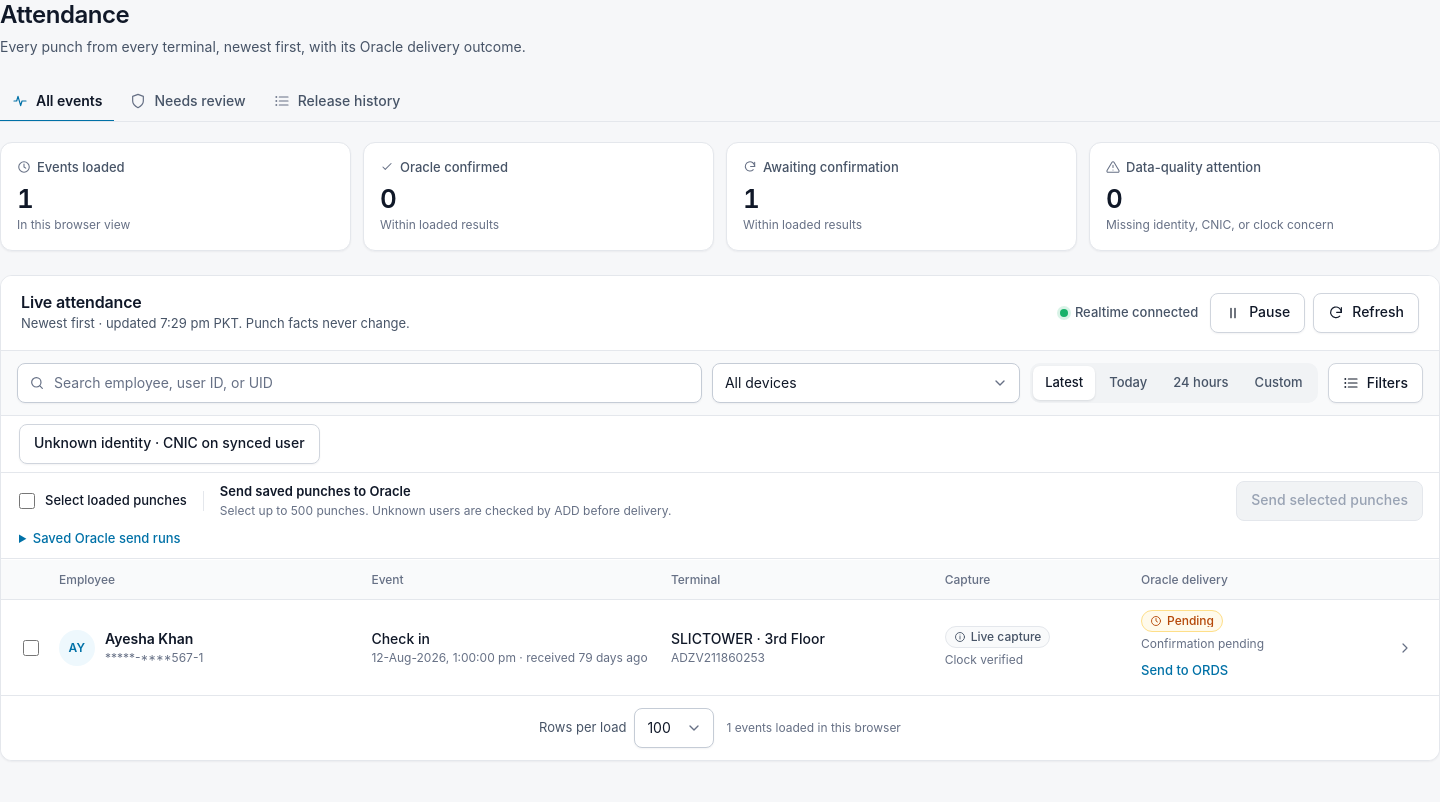
it: Live attendance workspace › lists unknown identities with a synced CNIC in one click and releases them without a reason or password
Expected: the element "Ayesha Khan" is shown, [1,600,1439,695]
Click the button "Unknown identity · CNIC on synced user" at (169, 444), box [19,424,320,464]
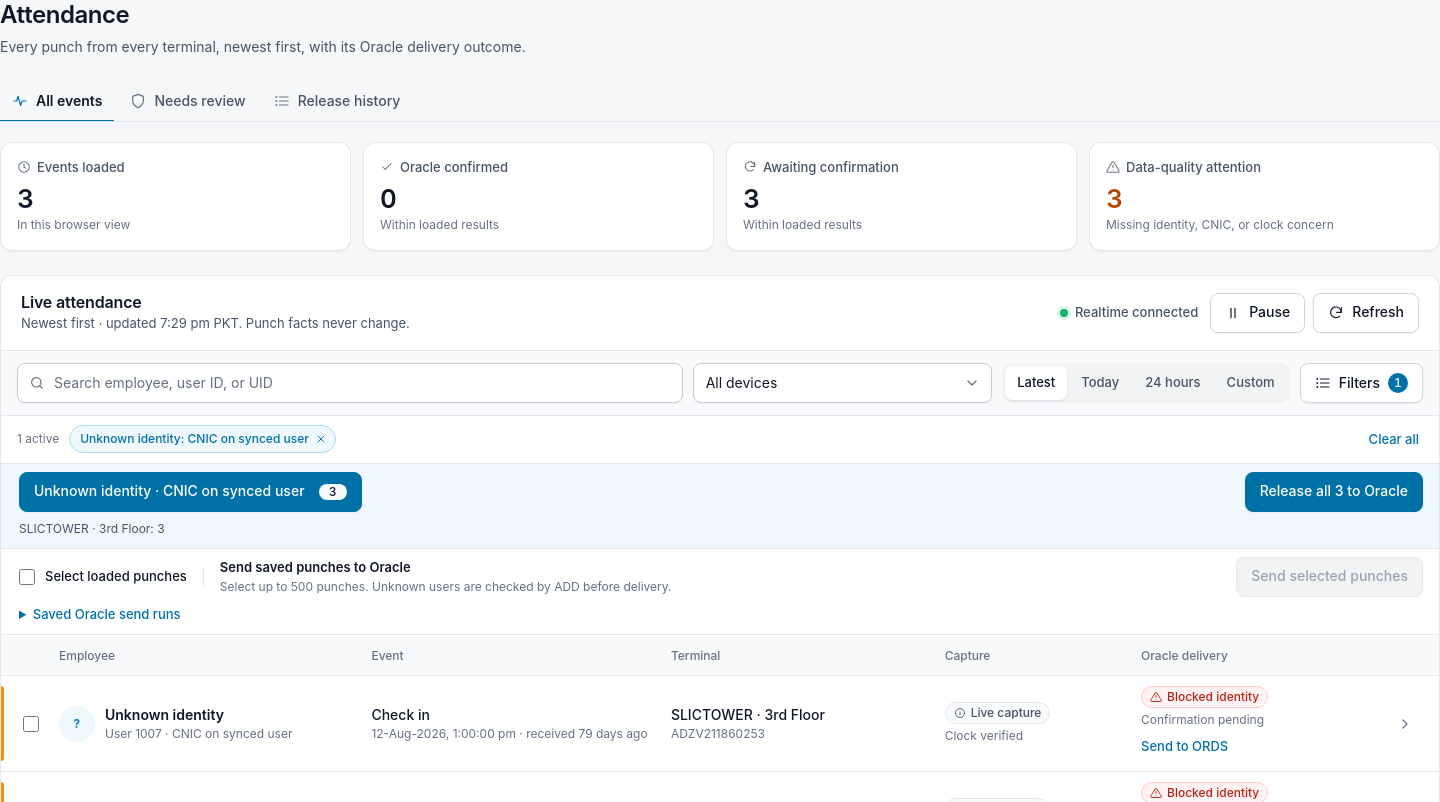
Expected: the button "Release all 3 to Oracle" is shown
Expected: the number of elements "Unknown identity" is 3
Expected: the text "SLICTOWER · 3rd Floor: 3" is shown, [19,521,165,536]
Click the button "Release all 3 to Oracle" at (1334, 492), box [1245,472,1423,512]
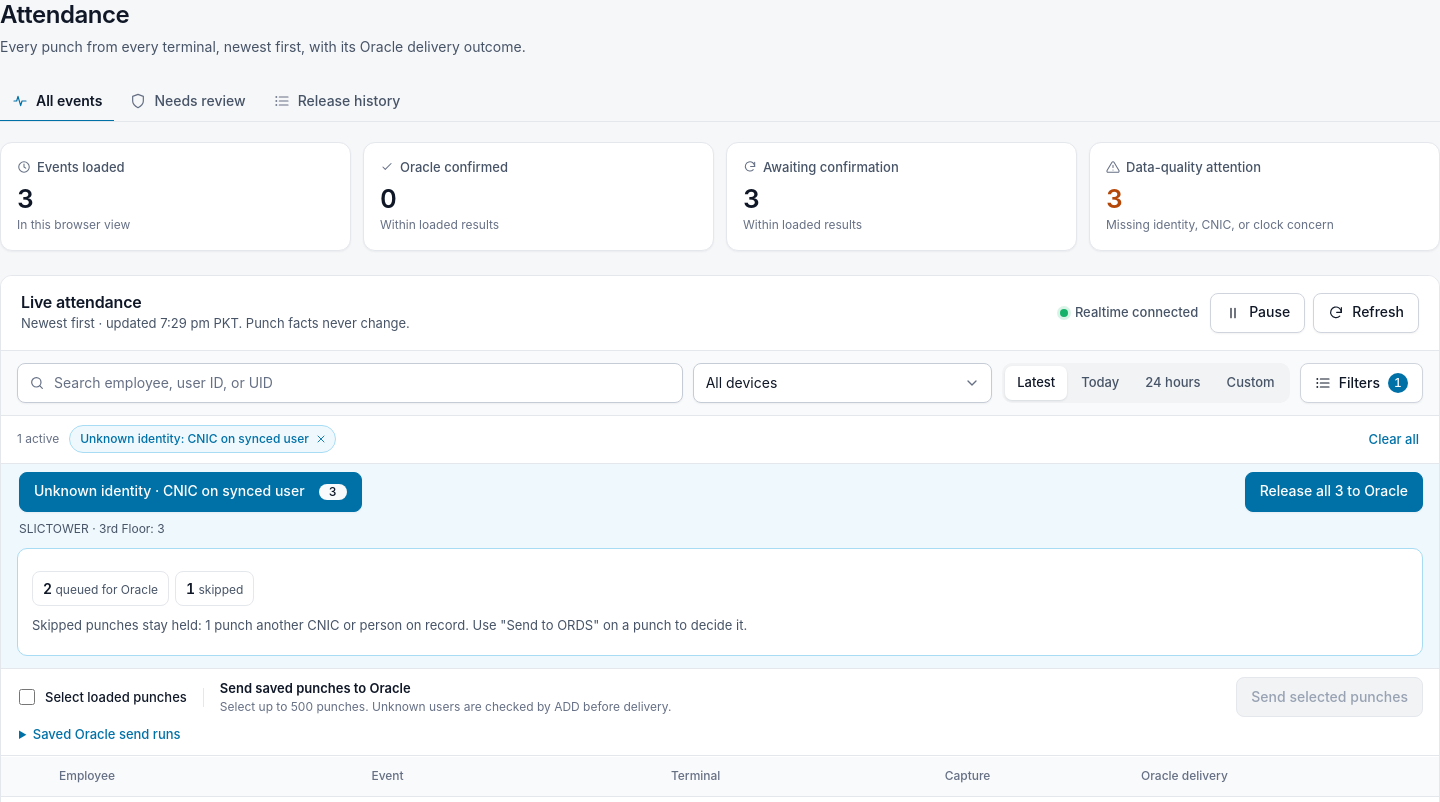
Expected: the text "2 queued for Oracle" is shown, [32,571,169,606]
Expected: the text "1 punch another CNIC or person on record" is shown, [205,617,465,633]
